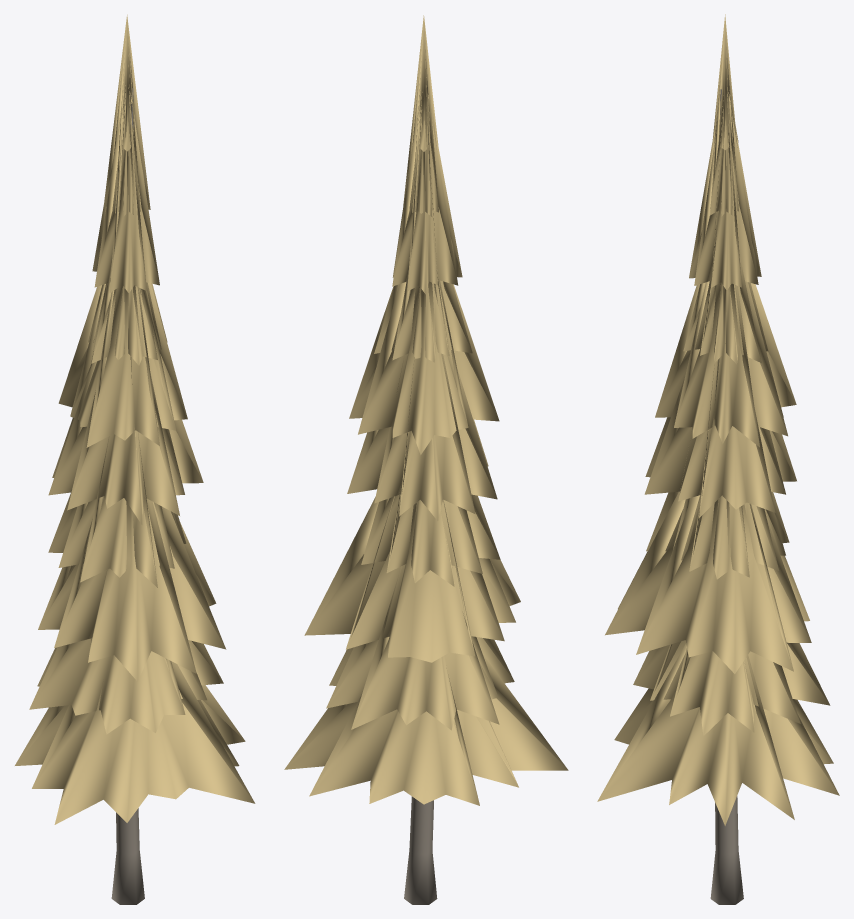
Rendered from alpine-and-arctic-biomes-alpine-larch-autumn-65113923__20930.glb.
3 views of the same model, side by side, from view 1: azimuth 30°, elevation 25°; view 2: azimuth 150°, elevation 25°; view 3: azimuth 270°, elevation 25° (orthographic).
Parts seen in each view (by area): view 1: alpine-larch-autumn; view 2: alpine-larch-autumn; view 3: alpine-larch-autumn.
Boxes of the visible parts, left/top/right/bottom form: alpine-larch-autumn: left=15, top=14, right=255, bottom=904; alpine-larch-autumn: left=284, top=15, right=568, bottom=904; alpine-larch-autumn: left=597, top=14, right=839, bottom=904.
Bounding box in the file's own units: 4.69 × 17.45 × 4.34.
